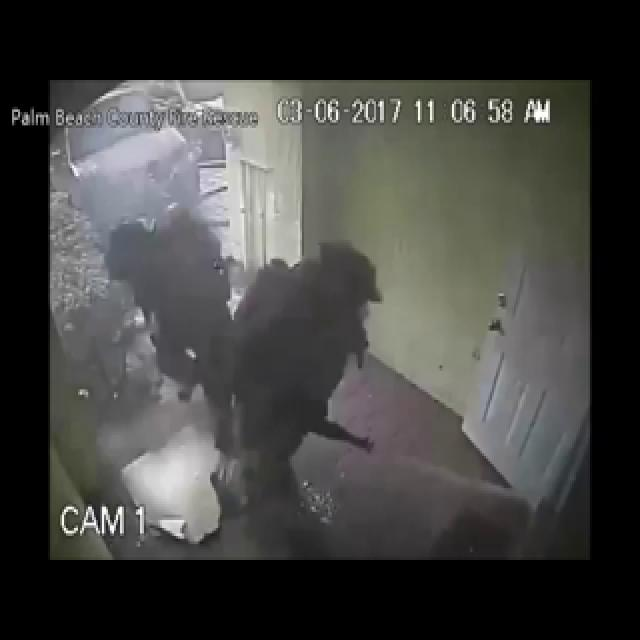explosion: (37, 90, 462, 506)
